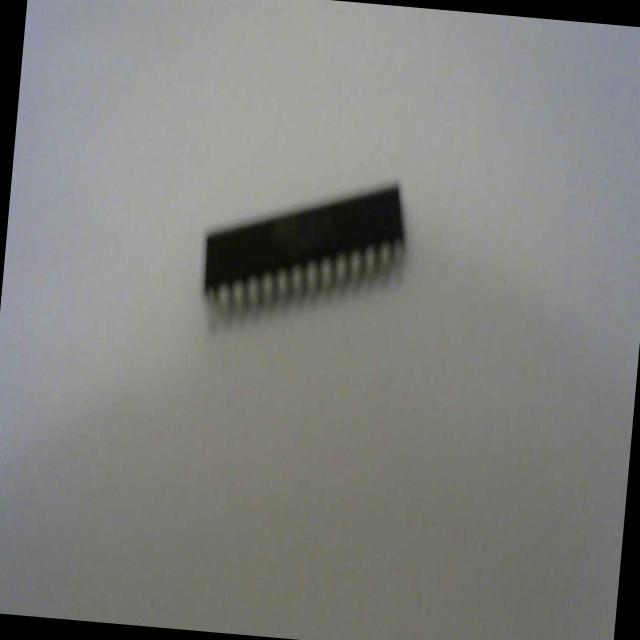atmega: (195, 162, 413, 336)
